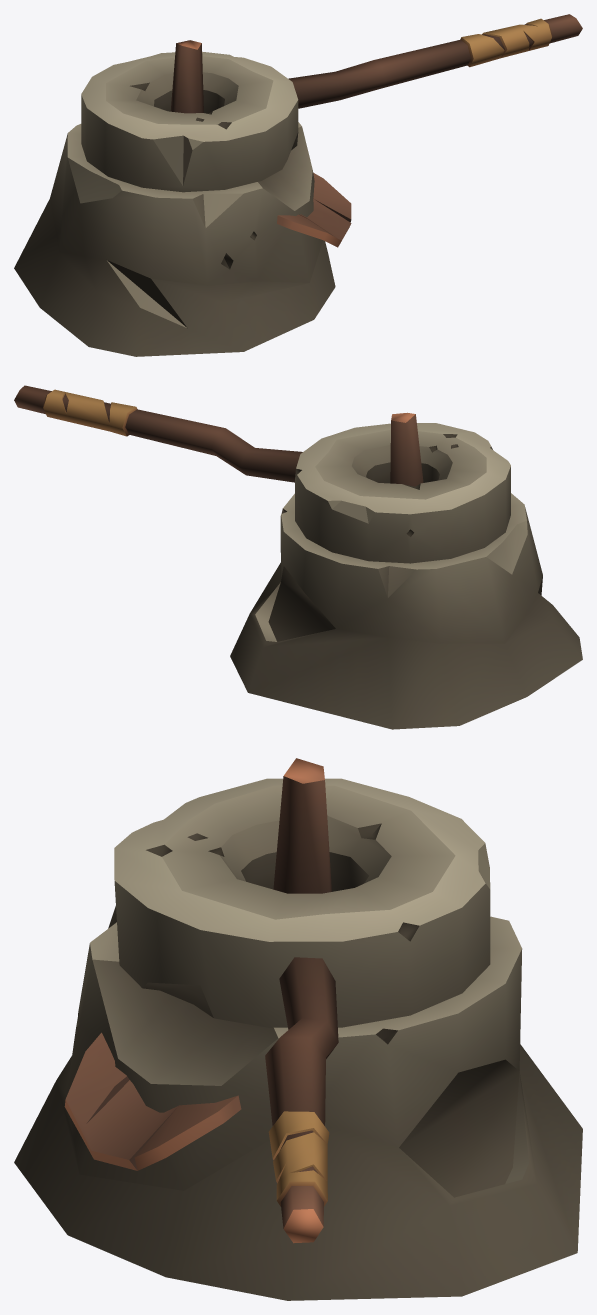
Rendered from Stone_Mill_1A.fbx.
The picture shows the model from 3 angles, top to bottom: view 1: azimuth 30°, elevation 25°; view 2: azimuth 150°, elevation 25°; view 3: azimuth 270°, elevation 25°; orthographic projection. The views are drawn at different scales.
Visible parts, largest first — view 1: Stone_Mill_1A, Stone_Mill_1A_Arm; view 2: Stone_Mill_1A, Stone_Mill_1A_Arm; view 3: Stone_Mill_1A, Stone_Mill_1A_Arm.
Part boxes in pixels (x1,y1,x2,y2): Stone_Mill_1A: (14,40,351,356); Stone_Mill_1A_Arm: (81,14,582,192); Stone_Mill_1A: (230,412,582,729); Stone_Mill_1A_Arm: (14,385,510,563); Stone_Mill_1A: (14,758,582,1300); Stone_Mill_1A_Arm: (114,778,490,1243).
Size of the model in its own units: 335 by 147 by 180.
